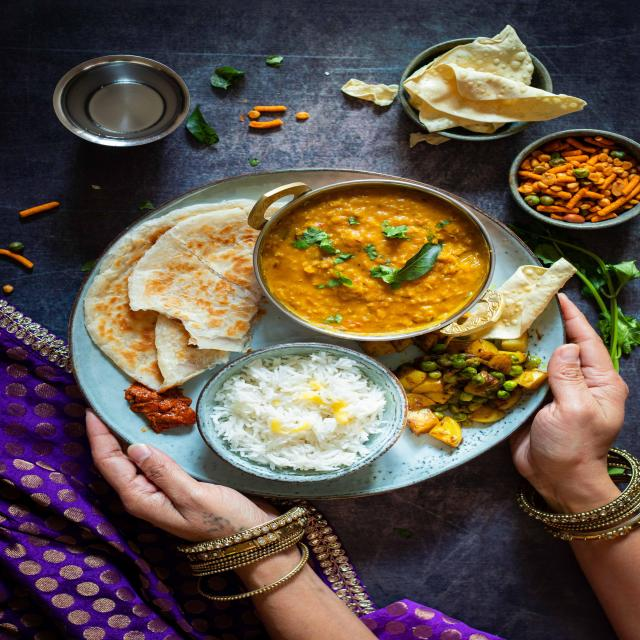dal: (258, 166, 494, 340)
rice: (210, 343, 410, 492)
